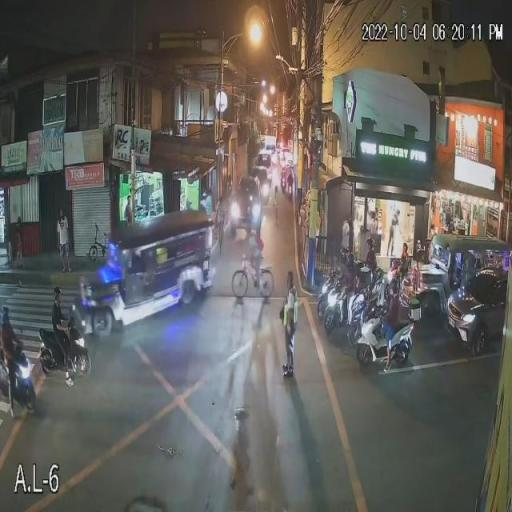helmet: (388, 278, 401, 299), (372, 267, 384, 287), (53, 287, 64, 303), (3, 305, 11, 326), (366, 238, 376, 253), (341, 249, 349, 265)
motorcycle: (357, 315, 416, 365), (38, 325, 88, 383), (0, 347, 38, 411), (349, 292, 383, 340), (325, 288, 347, 332), (316, 276, 342, 310)
rider: (1, 324, 19, 404), (382, 294, 400, 364), (50, 301, 68, 358), (346, 265, 358, 316), (372, 286, 384, 317), (341, 261, 345, 285)
